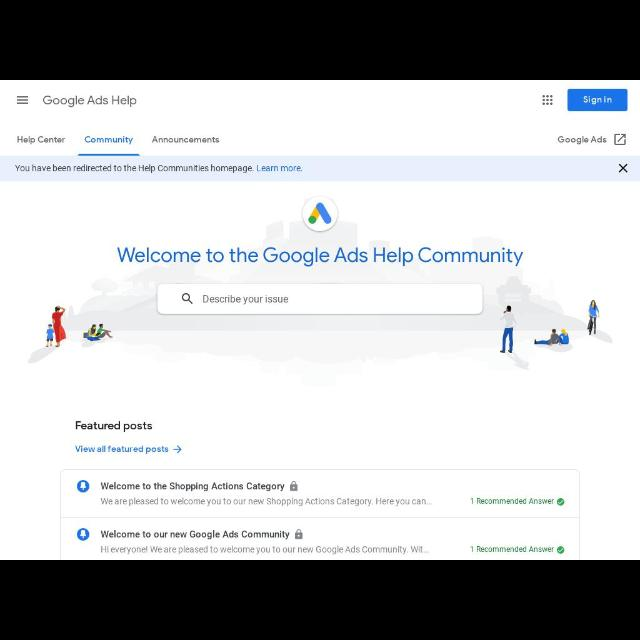backgroundimage: (2, 182, 620, 366)
button: (300, 196, 338, 232)
icon: (612, 132, 628, 146), (541, 94, 553, 106), (15, 96, 30, 104), (618, 162, 628, 174), (181, 294, 193, 304), (290, 481, 298, 491), (295, 528, 303, 538), (174, 446, 182, 454), (556, 498, 564, 506), (557, 546, 565, 554), (80, 482, 86, 490), (80, 530, 86, 538)
image: (308, 202, 332, 224)
input: (158, 285, 482, 315)
multitab: (1, 130, 639, 156)
text: (118, 246, 524, 266), (101, 498, 432, 508), (100, 545, 428, 555), (13, 164, 304, 174), (100, 480, 284, 492), (100, 530, 290, 540), (74, 418, 152, 434), (42, 95, 138, 107), (75, 445, 169, 455), (202, 295, 290, 305), (152, 135, 220, 145), (16, 135, 66, 147), (84, 136, 134, 146), (558, 136, 608, 144), (582, 95, 612, 105)
textbutton: (568, 88, 628, 110)
